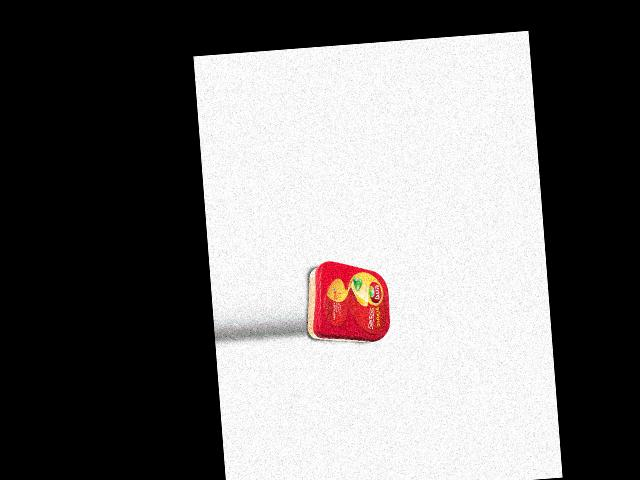cheese: (302, 256, 392, 346)
